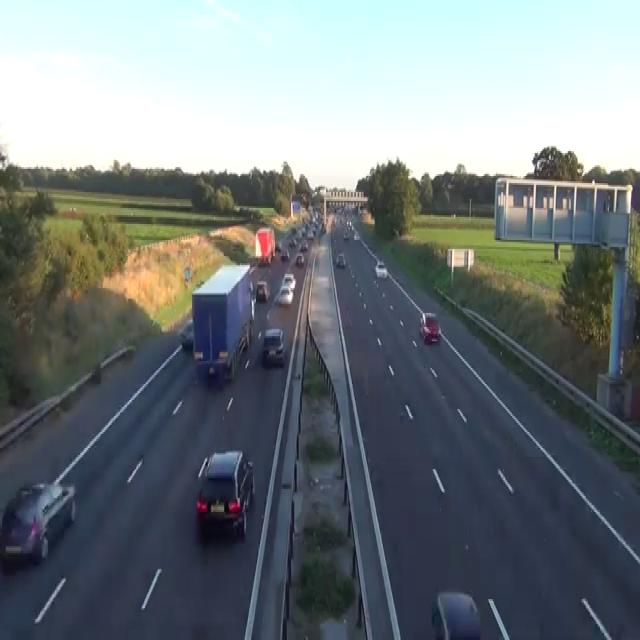Car: (0, 480, 76, 564), (195, 448, 255, 539), (431, 590, 481, 638), (262, 327, 284, 366), (419, 311, 441, 343), (179, 318, 194, 352), (277, 284, 293, 306), (255, 279, 269, 301), (282, 272, 296, 290), (375, 260, 387, 279), (91, 361, 101, 382), (183, 263, 192, 283), (257, 254, 269, 267), (335, 252, 346, 266), (295, 252, 304, 266), (280, 247, 289, 261), (250, 297, 255, 322), (299, 240, 308, 251), (289, 237, 296, 247), (320, 222, 326, 233), (353, 231, 360, 240), (346, 219, 352, 229), (342, 230, 349, 238), (249, 279, 253, 293), (275, 242, 281, 250), (307, 230, 313, 238), (333, 236, 336, 244)
Truck: (191, 262, 254, 382), (255, 226, 275, 266), (290, 201, 300, 219)
